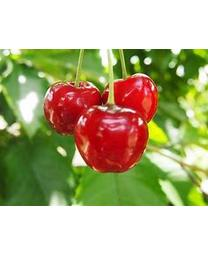cherry: (73, 105, 150, 173), (43, 81, 102, 135), (101, 73, 159, 124)
